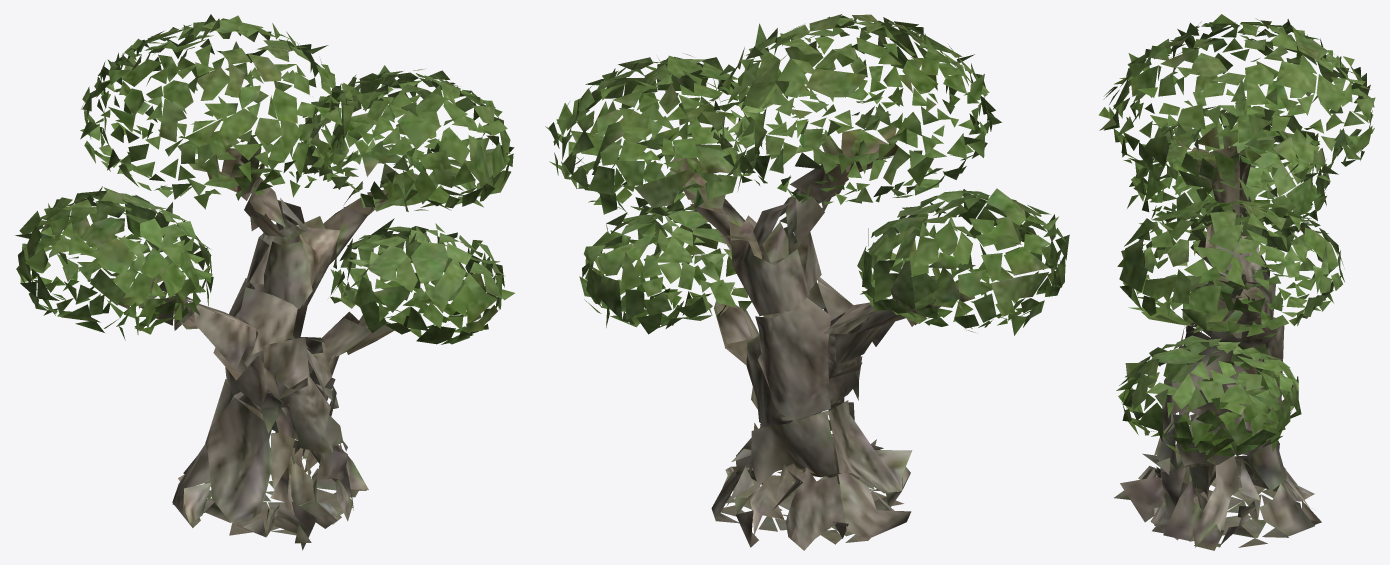
Rendered from olivier-lod.glb.
3 views of the same model, side by side, from view 1: azimuth 30°, elevation 25°; view 2: azimuth 150°, elevation 25°; view 3: azimuth 270°, elevation 25° (orthographic). The views are drawn at different scales.
Visible parts, largest first — view 1: Mesh_0; view 2: Mesh_0; view 3: Mesh_0.
Boxes of the visible parts, x1,y1,x2,y2 form: Mesh_0: [15, 14, 514, 550]; Mesh_0: [545, 14, 1069, 550]; Mesh_0: [1098, 14, 1375, 550].
Size of the model in its own units: 1.96 by 1.9 by 1.01.
Materials: 1 (1 with a texture image).
